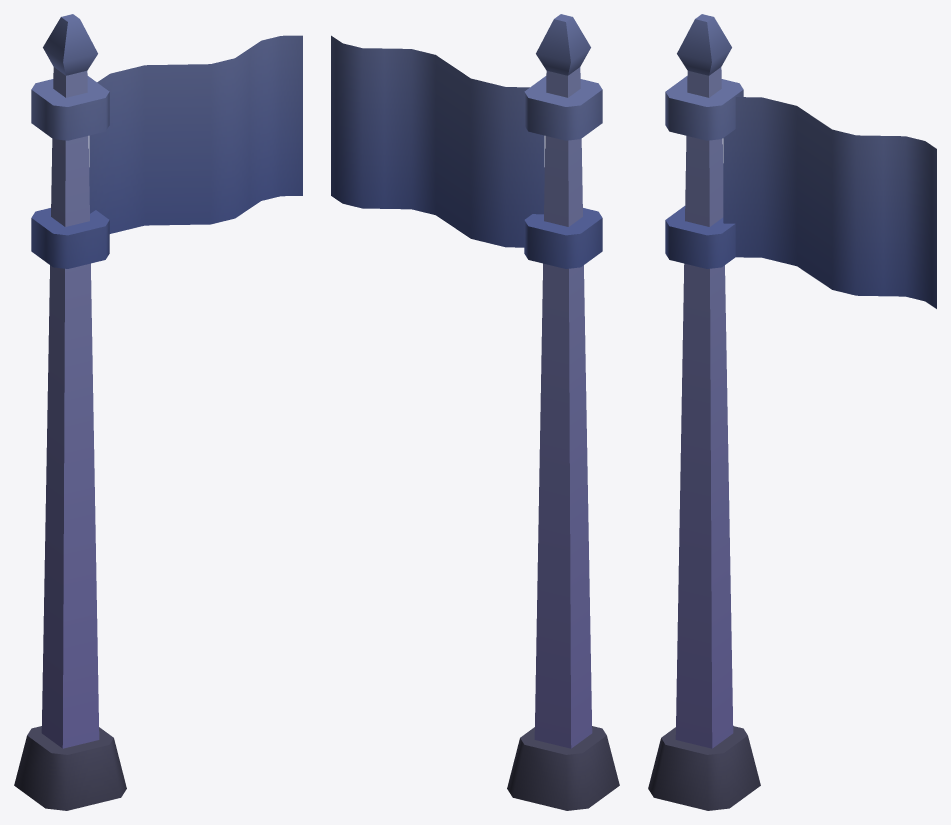
Rendered from flag-high.fbx.
The picture shows the model from 3 angles, left to right: view 1: azimuth 30°, elevation 25°; view 2: azimuth 150°, elevation 25°; view 3: azimuth 330°, elevation 25°; orthographic projection.
Visible parts, largest first — view 1: flag-high; view 2: flag-high; view 3: flag-high.
Boxes of the visible parts, x1,y1,x2,y2 form: flag-high: (14,14,302,810); flag-high: (331,14,619,810); flag-high: (648,14,936,810).
Bounding box in the file's own units: 134 × 360 × 39.89.
